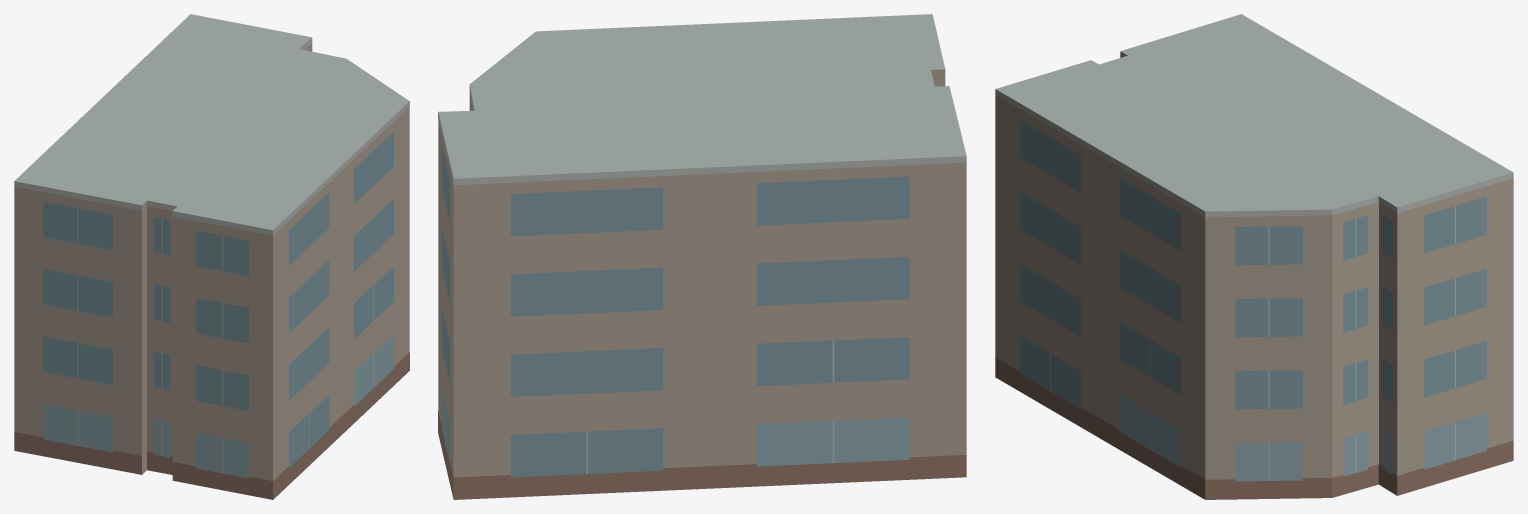
Rendered from survey-upis-33001878.glb.
3 renders of one model, left to right at view 1: azimuth 30°, elevation 25°; view 2: azimuth 150°, elevation 25°; view 3: azimuth 270°, elevation 25°, orthographic. The views are drawn at different scales.
Parts seen in each view (by area): view 1: survey-upis-33001878.tmp; view 2: survey-upis-33001878.tmp; view 3: survey-upis-33001878.tmp.
Part boxes in pixels (x1,y1,x2,y2): survey-upis-33001878.tmp: [14, 14, 409, 499]; survey-upis-33001878.tmp: [438, 14, 966, 499]; survey-upis-33001878.tmp: [995, 14, 1513, 499].
Size of the model in its own units: 17.87 by 12.15 by 19.8.
